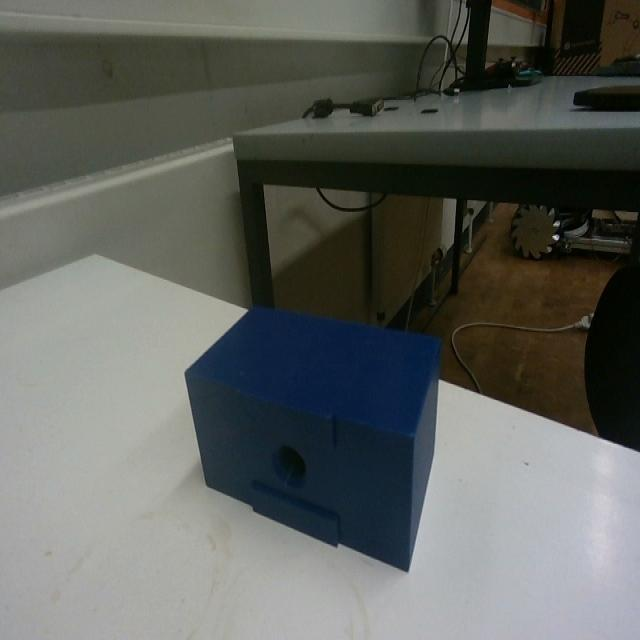Blue Cuboid: (182, 299, 444, 573)
